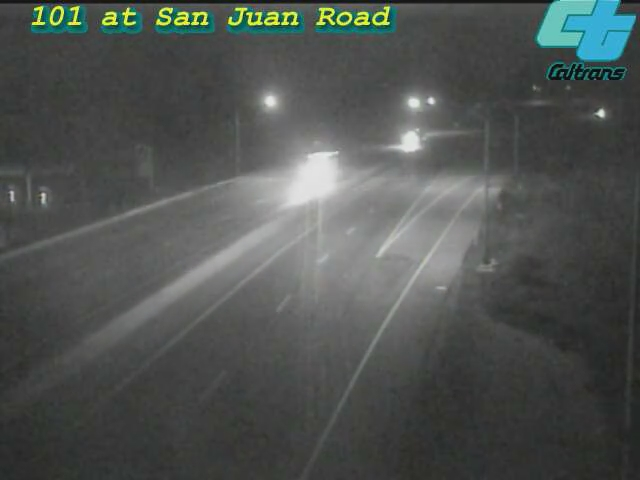vehicle: (270, 130, 350, 210), (381, 118, 431, 168), (574, 89, 624, 139)
